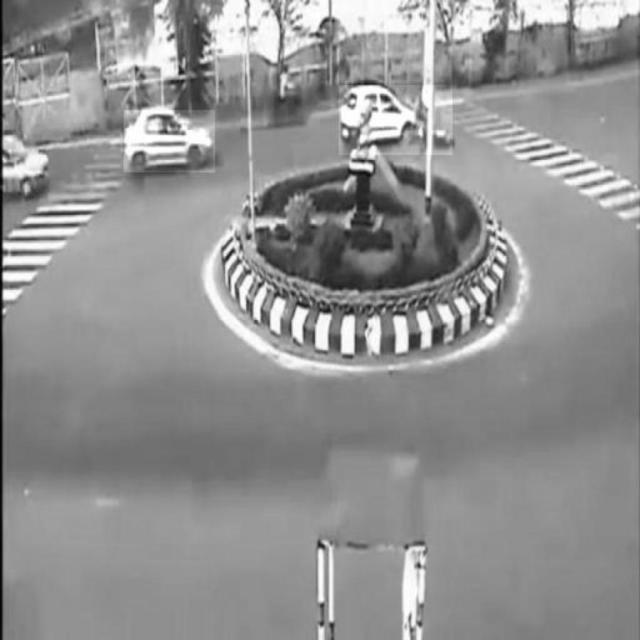accident: (339, 85, 452, 155)
vehicle: (124, 110, 215, 174)
